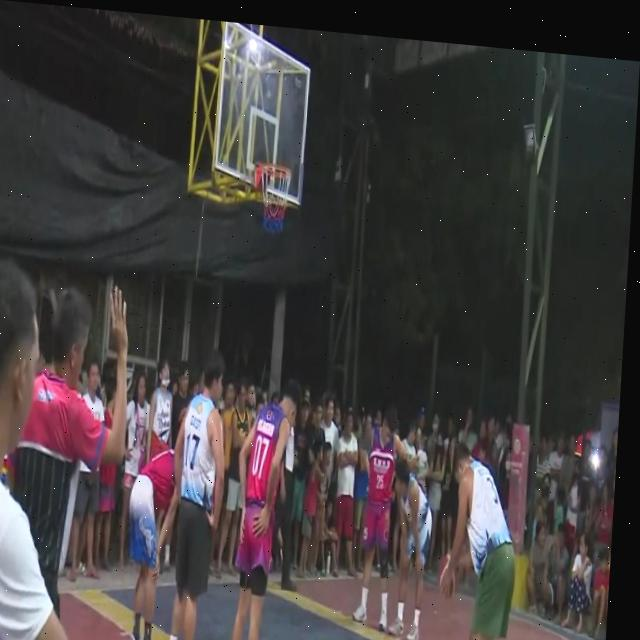basketball: (436, 547, 458, 603)
hoop: (255, 160, 293, 244)
